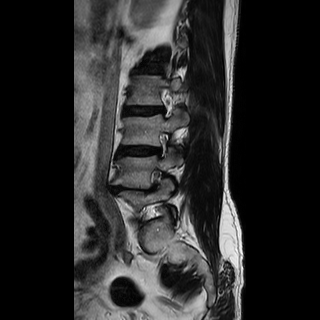RFS0: (149, 125, 175, 163)
